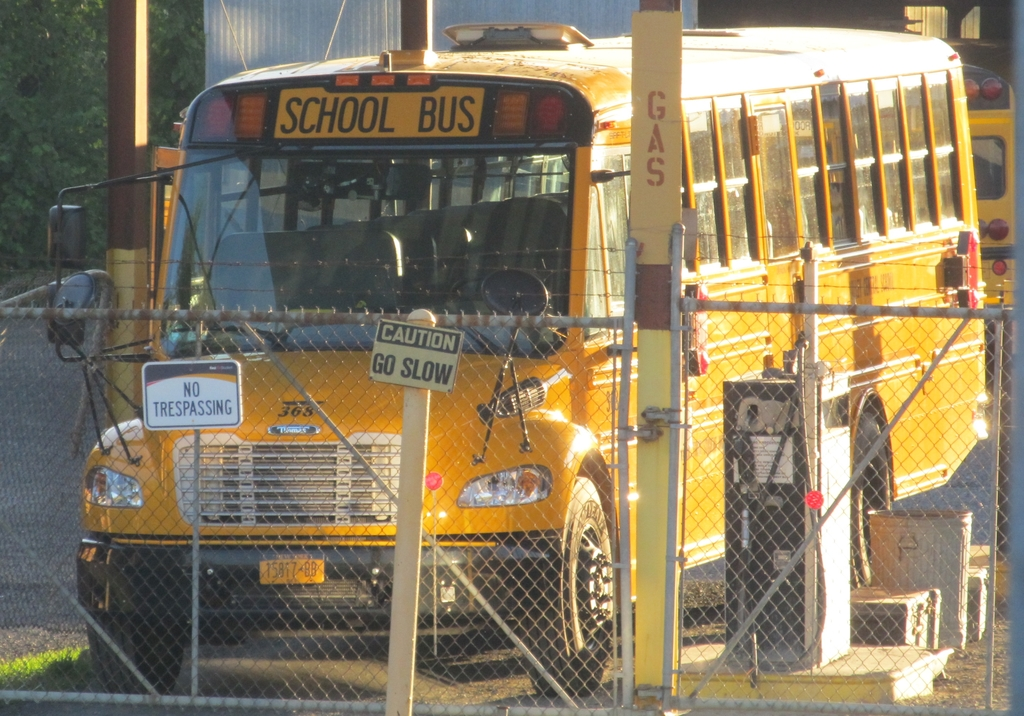Bus: (35, 19, 988, 698), (938, 35, 1020, 365)
